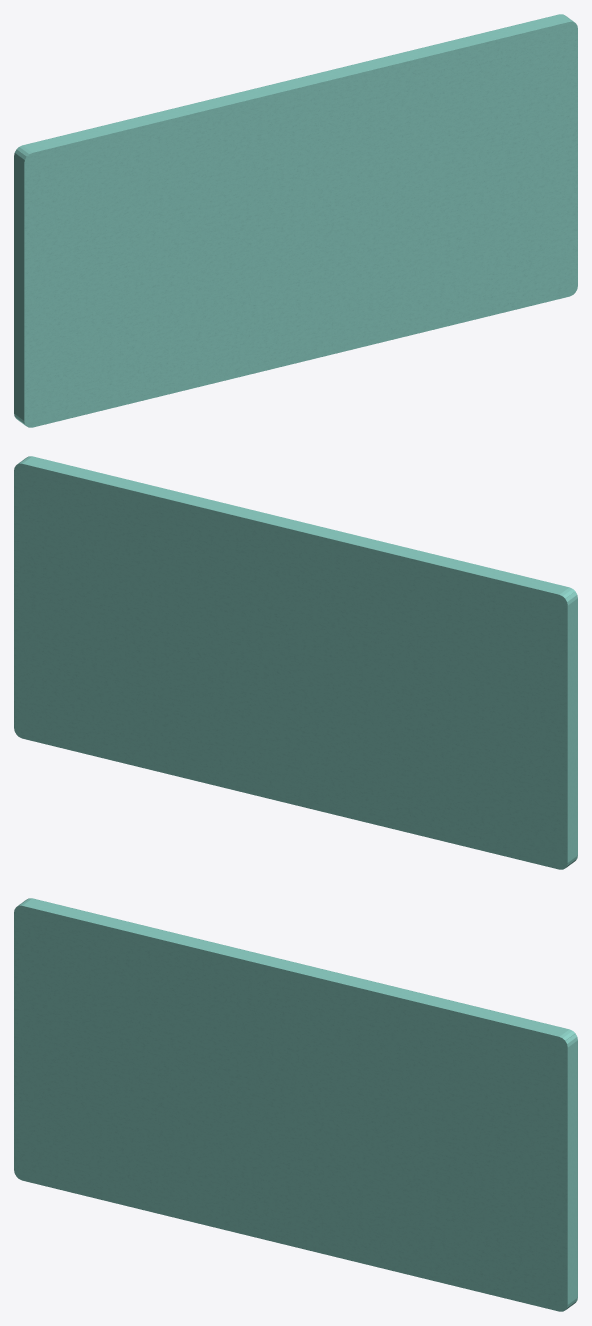
File: DoubleHangingCabinets.003.fbx
The picture shows the model from 3 angles, top to bottom: view 1: azimuth 30°, elevation 25°; view 2: azimuth 150°, elevation 25°; view 3: azimuth 330°, elevation 25°; orthographic projection.
Parts seen in each view (by area): view 1: DoubleHangingCabinets.003_Baked; view 2: DoubleHangingCabinets.003_Baked; view 3: DoubleHangingCabinets.003_Baked.
Boxes of the visible parts, x1,y1,x2,y2 form: DoubleHangingCabinets.003_Baked: (14, 14, 577, 427); DoubleHangingCabinets.003_Baked: (14, 456, 577, 869); DoubleHangingCabinets.003_Baked: (14, 898, 577, 1311).
Bounding box in the file's own units: 90.33 × 42.83 × 2.89.
1 material, 1 textured.
